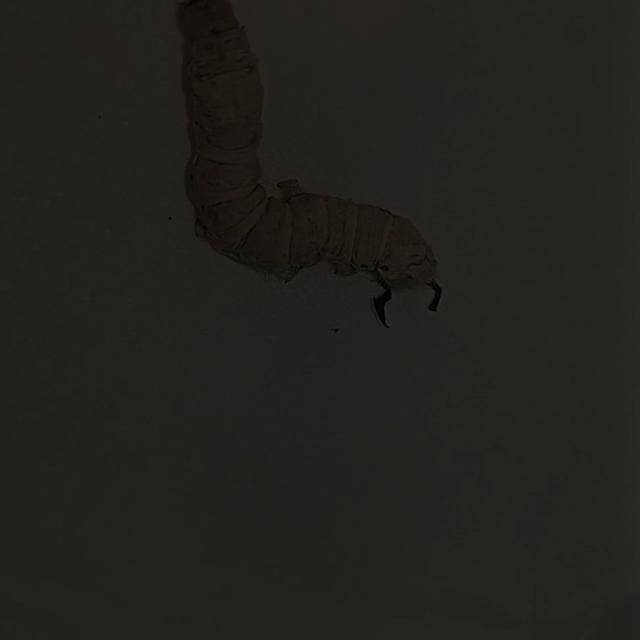Healthy: (126, 0, 470, 340)
